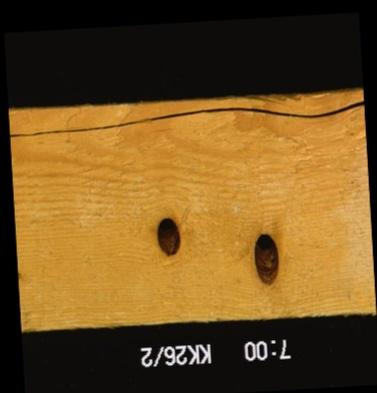split: (8, 107, 363, 129)
